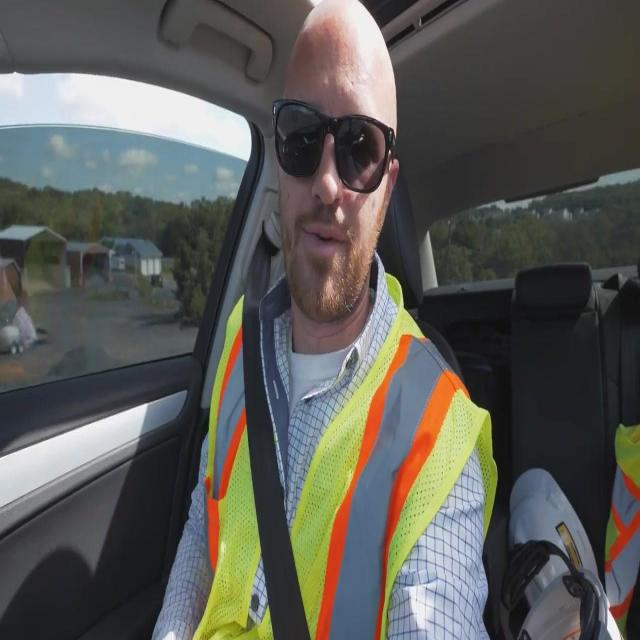Reflective-Jacket: (192, 284, 496, 634)
